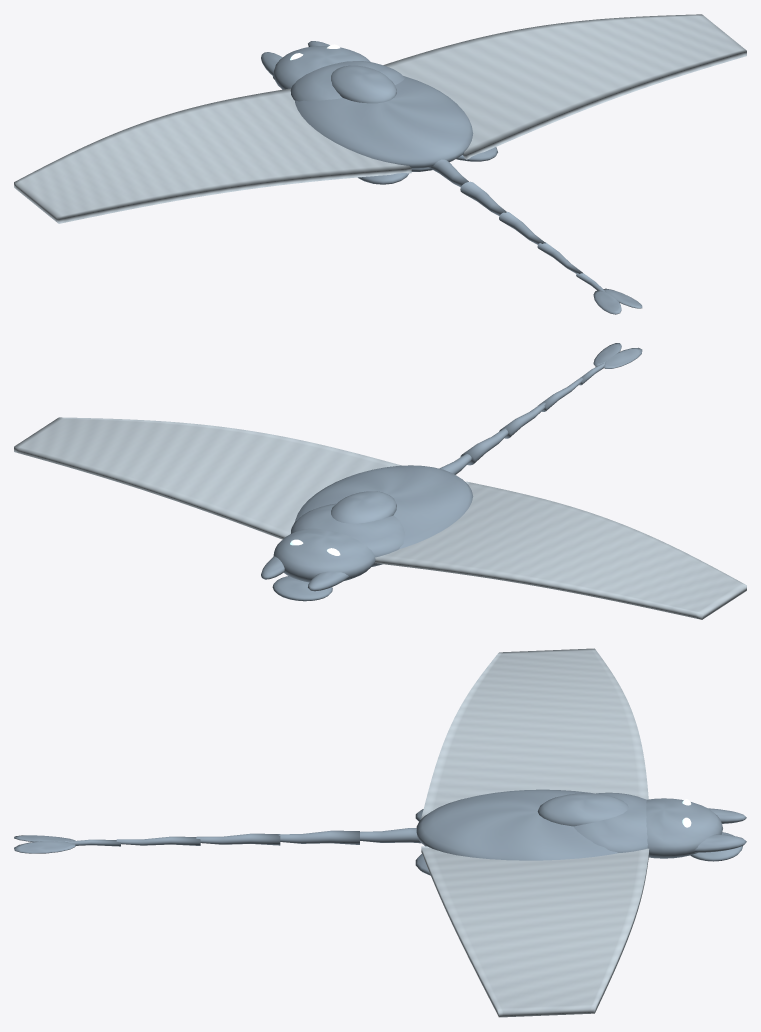
Rendered from skyknit-manta.glb.
The picture shows the model from 3 angles, top to bottom: view 1: azimuth 30°, elevation 25°; view 2: azimuth 150°, elevation 25°; view 3: azimuth 270°, elevation 25°; orthographic projection. The views are drawn at different scales.
Parts seen in each view (by area): view 1: Manta_Fin_L, Manta_Fin_R, Manta_Body, Manta_Head, Manta_Tail_5, Manta_Tail_2; view 2: Manta_Fin_L, Manta_Fin_R, Manta_Body, Manta_Head, Manta_Tail_5, Manta_Jaw, Manta_Tail_2, Manta_Tail_3; view 3: Manta_Fin_R, Manta_Fin_L, Manta_Body, Manta_Head, Manta_Tail_5, Manta_Tail_2, Manta_Tail_3, Manta_Tail_1, Manta_Tail_4.
Boxes of the visible parts, x1,y1,x2,y2 form: Manta_Fin_L: (14,88,411,223); Manta_Fin_R: (383,14,746,159); Manta_Body: (290,61,497,184); Manta_Head: (261,41,370,89); Manta_Tail_5: (576,273,642,314); Manta_Tail_2: (460,181,506,215); Manta_Fin_L: (375,481,746,619); Manta_Fin_R: (14,417,401,539); Manta_Body: (291,465,473,566); Manta_Head: (261,528,375,591); Manta_Tail_5: (579,343,642,385); Manta_Jaw: (272,576,332,601); Manta_Tail_2: (460,428,508,465); Manta_Tail_3: (499,402,545,438); Manta_Fin_R: (421,846,649,1017); Manta_Fin_L: (421,648,648,818); Manta_Body: (415,789,647,875); Manta_Head: (646,798,746,858); Manta_Tail_5: (14,835,120,853); Manta_Tail_2: (278,830,359,844); Manta_Tail_3: (196,833,280,845); Manta_Tail_1: (360,828,421,843); Manta_Tail_4: (116,836,200,845).
Size of the model in its own units: 12.06 by 0.92 by 10.39.
